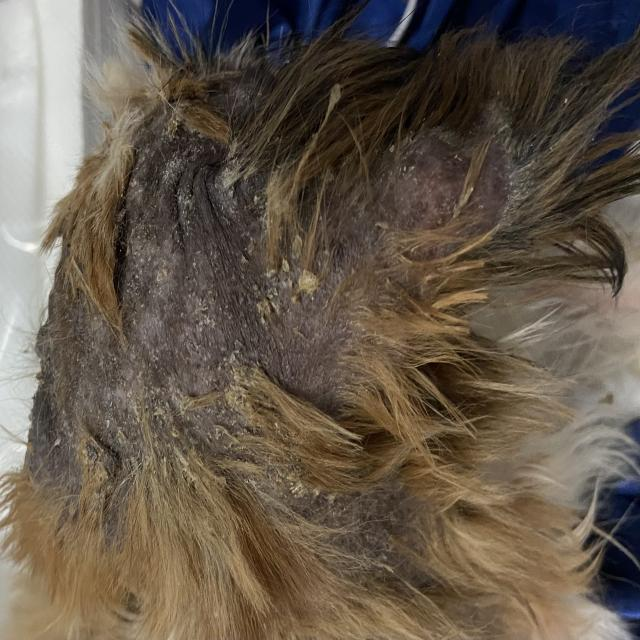demodicosis: (126, 144, 295, 406), (58, 281, 112, 492)
